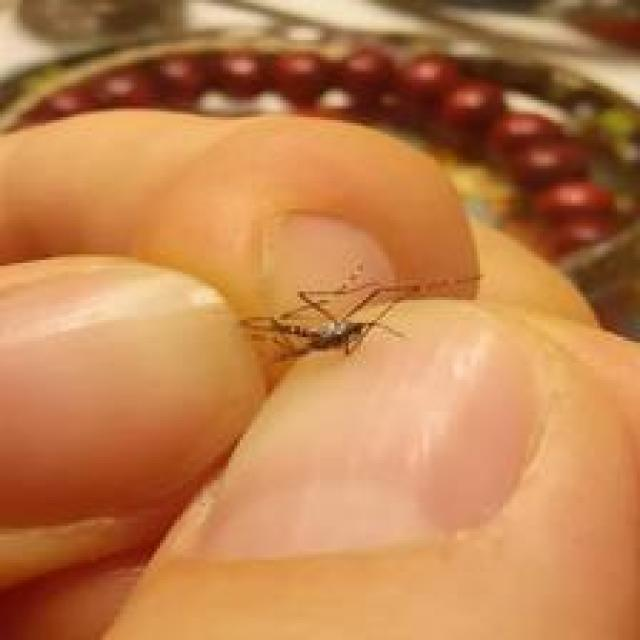Aedes albopictus: (238, 273, 422, 364)
